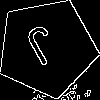J: (21, 23, 67, 76)
